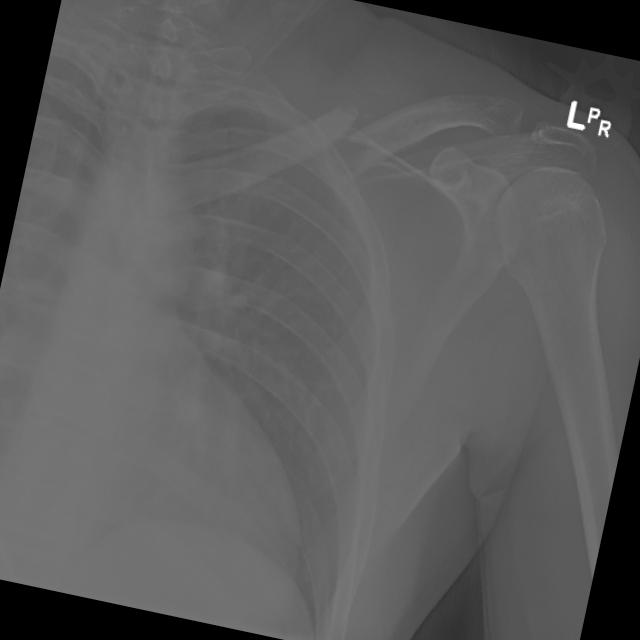shoulder fracture: (311, 58, 418, 198)
